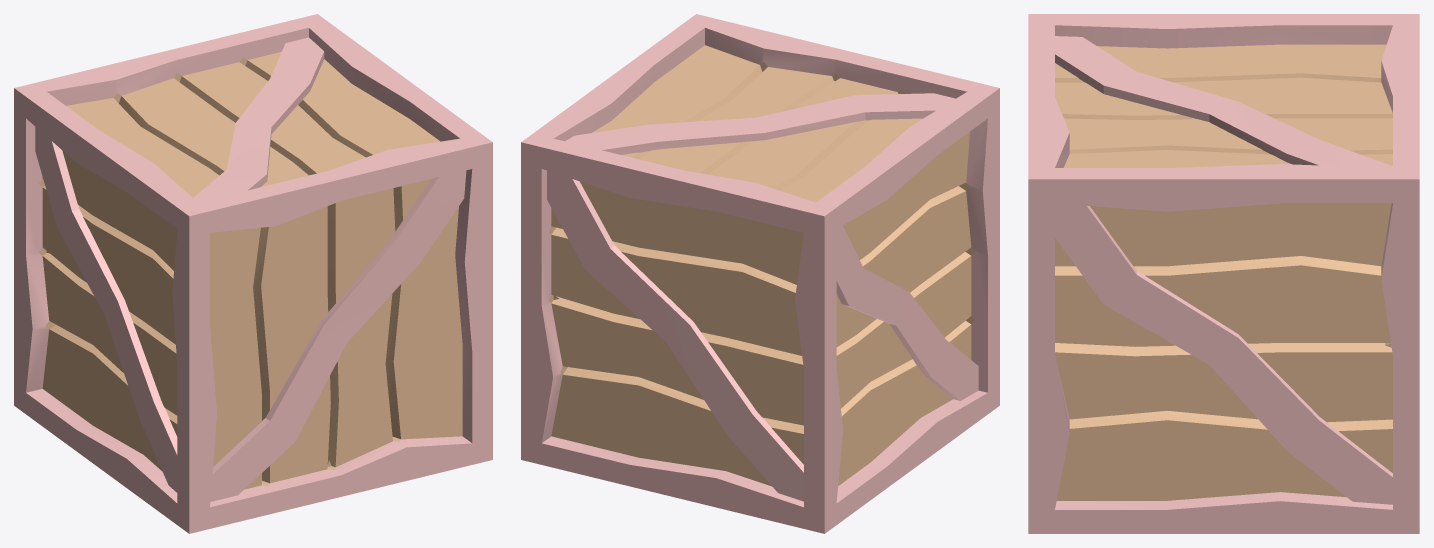
File: Box_With_Physics.fbx
3 views of the same model, side by side, from view 1: azimuth 30°, elevation 25°; view 2: azimuth 150°, elevation 25°; view 3: azimuth 270°, elevation 25° (orthographic). The views are drawn at different scales.
Parts seen in each view (by area): view 1: Box_With_Physics; view 2: Box_With_Physics; view 3: Box_With_Physics.
Boxes of the visible parts, x1,y1,x2,y2 form: Box_With_Physics: (14,14,492,533); Box_With_Physics: (521,14,999,533); Box_With_Physics: (1028,14,1419,533).
Size of the model in its own units: 67.66 by 67.66 by 67.66.
